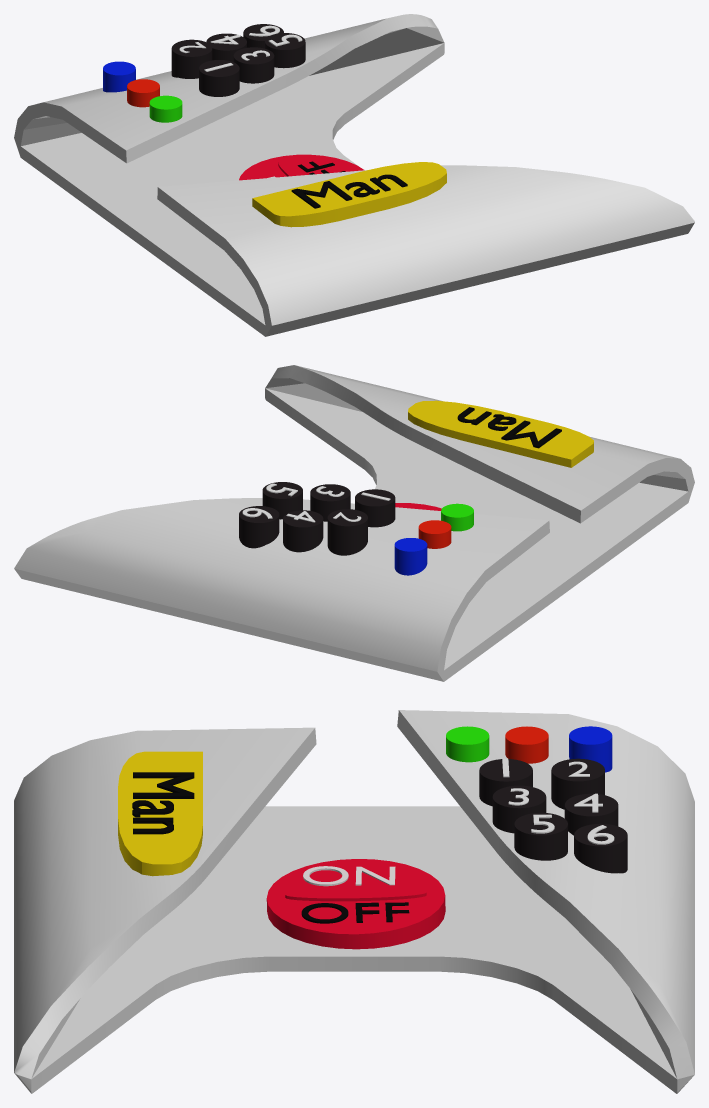
The model's file is Джойстик.fbx.
3 views of the same model, one above another, from view 1: azimuth 30°, elevation 25°; view 2: azimuth 150°, elevation 25°; view 3: azimuth 270°, elevation 25° (orthographic). The views are drawn at different scales.
Visible parts, largest first — view 1: Plane, Cube, Circle, Cylinder.003, Cylinder.004, Cylinder.005, Text.006, Cylinder.008, Cylinder.002, Cylinder, Cylinder.001, Cylinder.006 (+1 smaller); view 2: Plane, Cube, Cylinder.004, Cylinder.006, Cylinder.007, Text.006, Cylinder.003, Cylinder.002, Cylinder.005, Cylinder.008, Cylinder.001, Cylinder; view 3: Plane, Circle, Cube, Text.006, Cylinder.008, Cylinder.007, Cylinder.004, Cylinder.005, Cylinder.003, Cylinder.002, Cylinder.006, Cylinder.001 (+3 smaller).
Part boxes in pixels (left/top/right/bottom): Plane: left=14, top=14, right=694, bottom=336; Cube: left=252, top=162, right=446, bottom=227; Circle: left=239, top=154, right=364, bottom=180; Cylinder.003: left=199, top=60, right=239, bottom=96; Cylinder.004: left=171, top=39, right=212, bottom=78; Cylinder.005: left=233, top=47, right=274, bottom=83; Text.006: left=291, top=174, right=407, bottom=208; Cylinder.008: left=265, top=33, right=305, bottom=68; Cylinder.002: left=103, top=61, right=135, bottom=92; Cylinder: left=149, top=95, right=182, bottom=122; Cylinder.001: left=127, top=79, right=159, bottom=107; Cylinder.006: left=206, top=33, right=246, bottom=62; Plane: left=14, top=365, right=694, bottom=681; Cube: left=408, top=400, right=593, bottom=467; Cylinder.004: left=327, top=509, right=367, bottom=555; Cylinder.006: left=283, top=510, right=323, bottom=552; Cylinder.007: left=239, top=506, right=279, bottom=548; Text.006: left=457, top=407, right=561, bottom=448; Cylinder.003: left=355, top=489, right=395, bottom=527; Cylinder.002: left=394, top=538, right=427, bottom=575; Cylinder.005: left=310, top=484, right=350, bottom=521; Cylinder.008: left=262, top=482, right=302, bottom=519; Cylinder.001: left=418, top=520, right=451, bottom=548; Cylinder: left=441, top=503, right=473, bottom=531; Plane: left=14, top=710, right=694, bottom=1093; Circle: left=266, top=859, right=445, bottom=949; Cube: left=118, top=751, right=202, bottom=876; Text.006: left=132, top=772, right=194, bottom=834; Cylinder.008: left=514, top=812, right=567, bottom=860; Cylinder.007: left=574, top=823, right=627, bottom=873; Cylinder.004: left=551, top=758, right=604, bottom=809; Cylinder.005: left=492, top=785, right=546, bottom=833; Cylinder.003: left=479, top=759, right=532, bottom=806; Cylinder.002: left=569, top=726, right=612, bottom=772; Cylinder.006: left=564, top=793, right=618, bottom=835; Cylinder.001: left=505, top=726, right=548, bottom=763.
Bounding box in the file's own units: 201 × 47.89 × 212.
